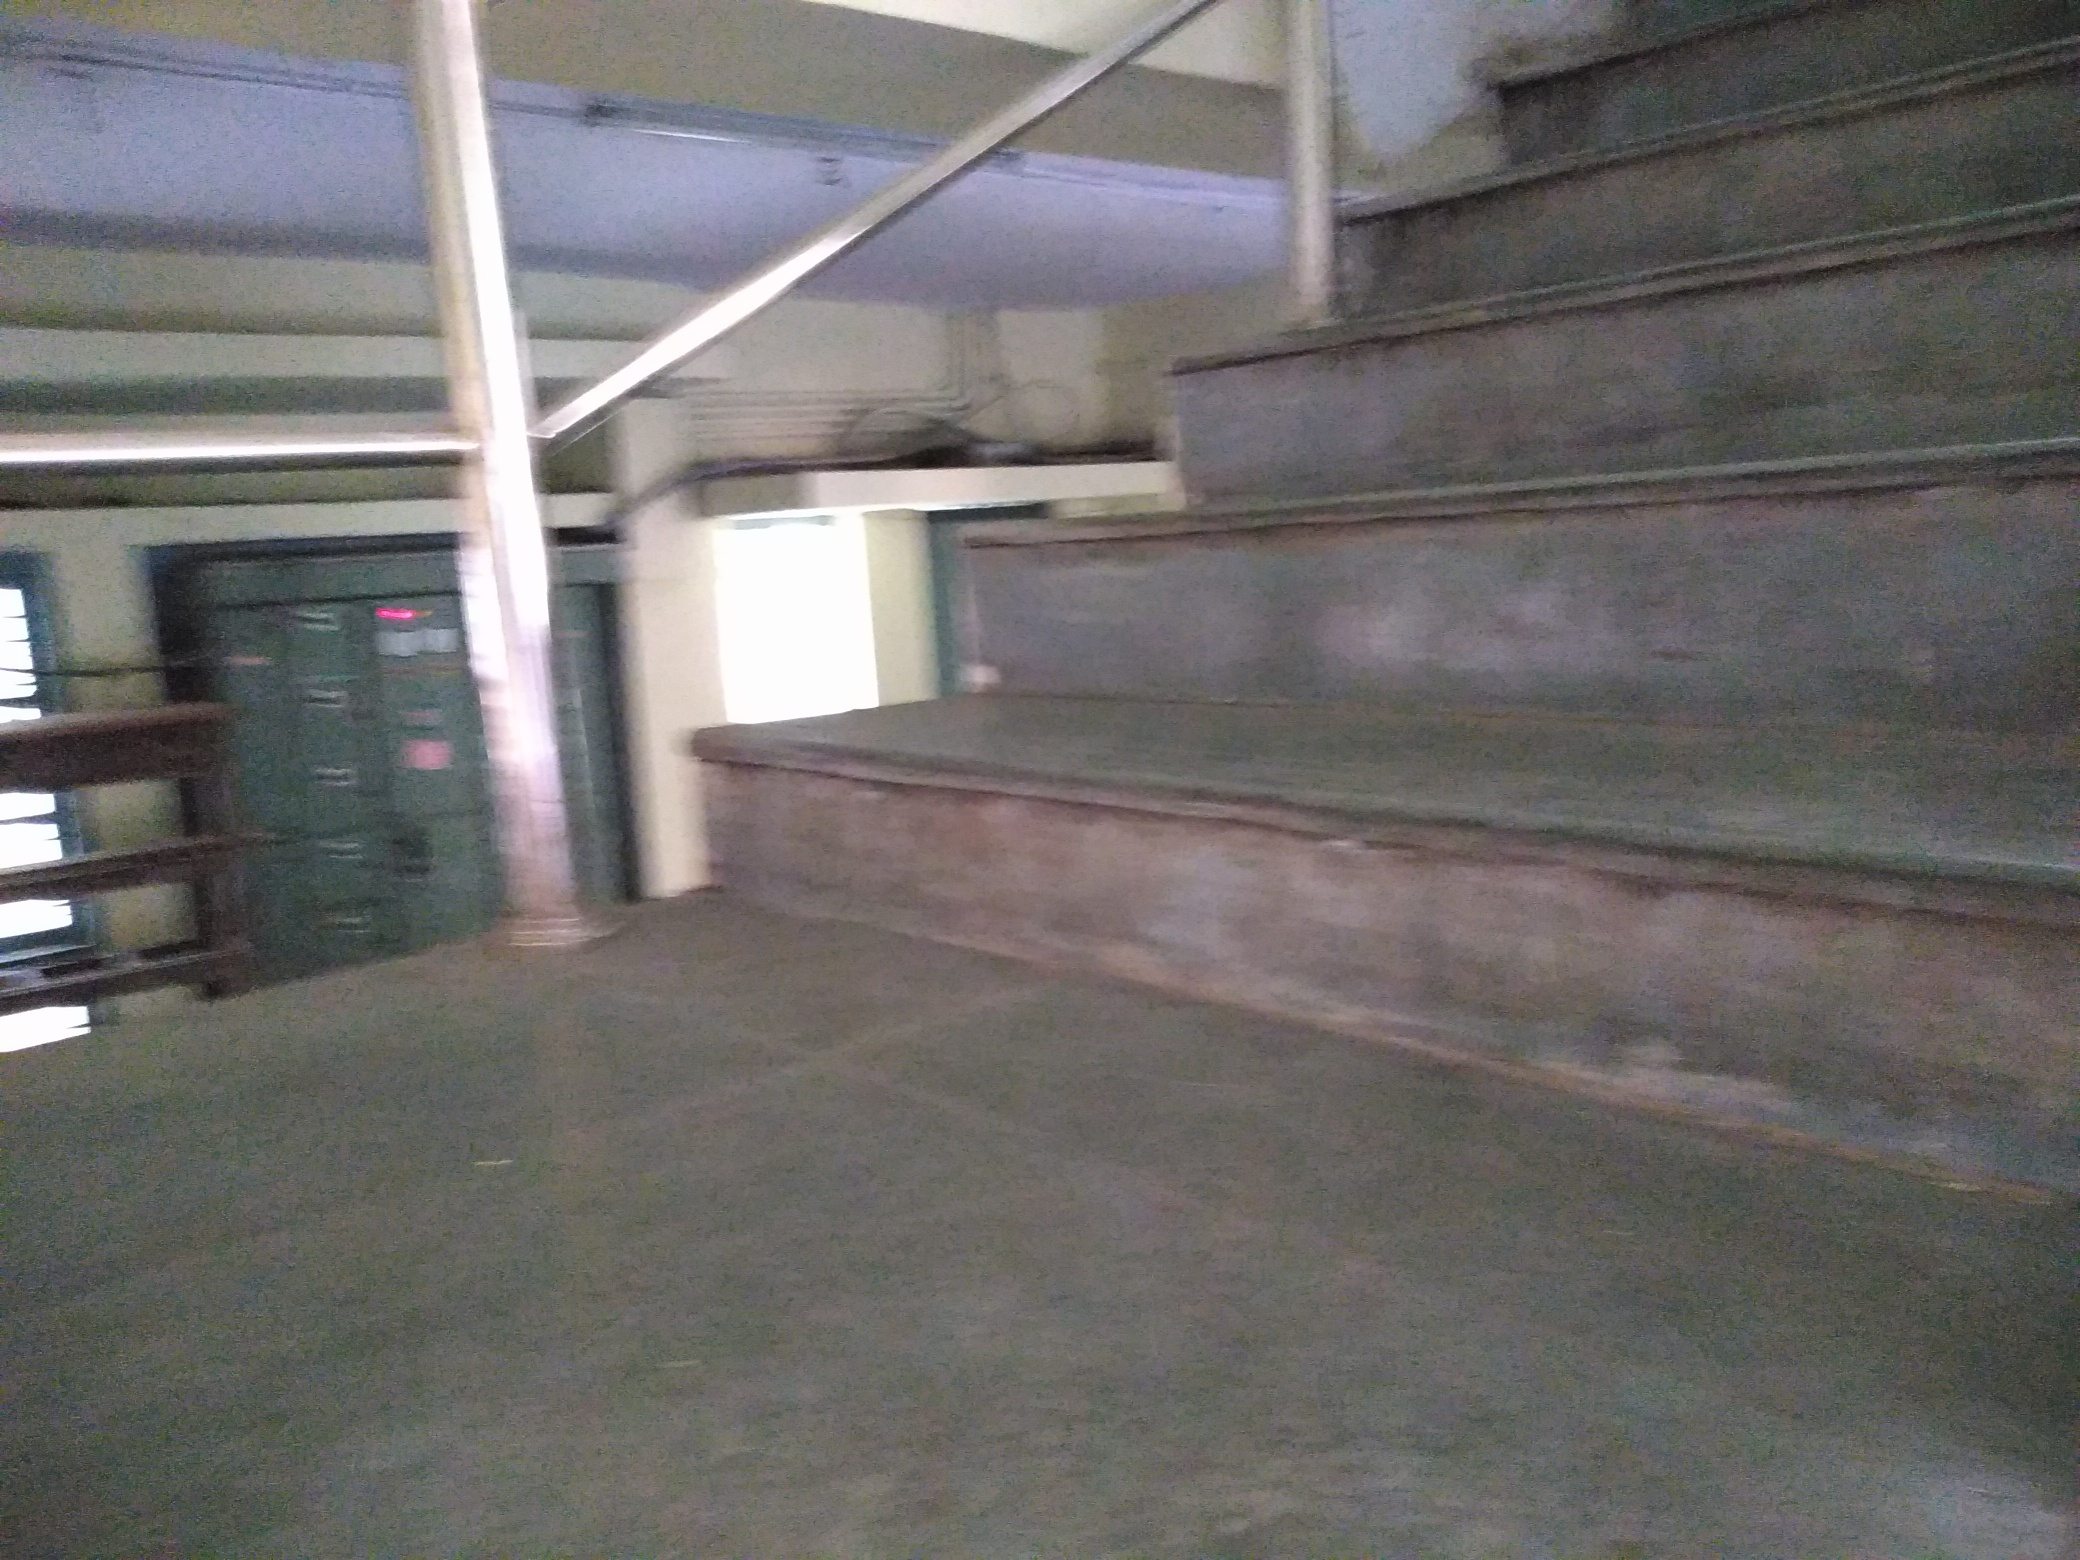stairs_up: (822, 5, 2064, 1021)
